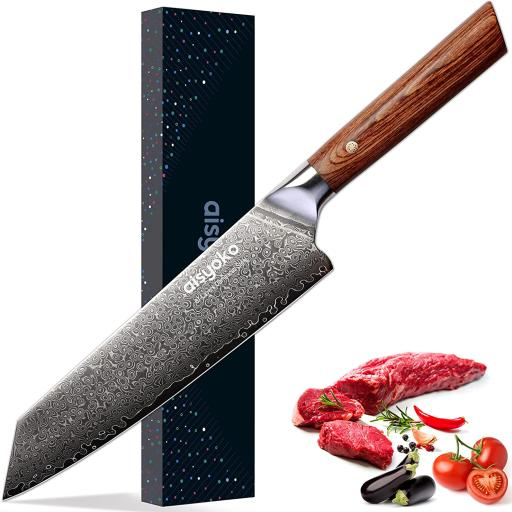knife: (13, 3, 509, 495)
